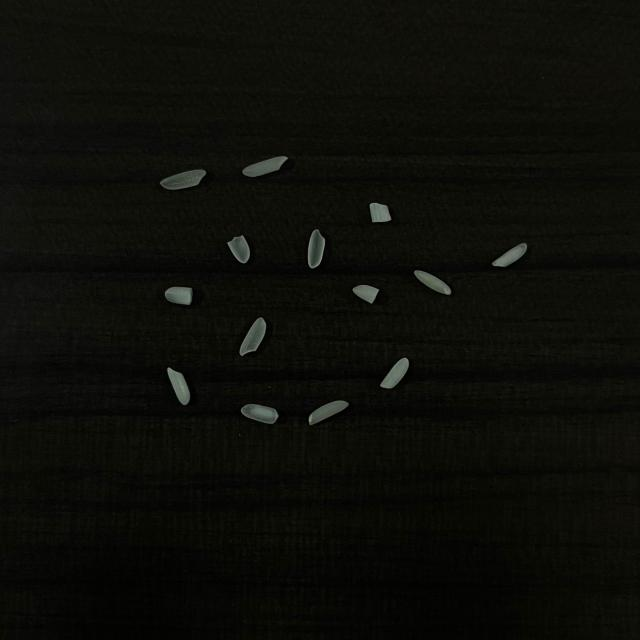Broken: (241, 404, 279, 424), (227, 235, 250, 264), (352, 285, 380, 304), (165, 287, 193, 305), (369, 202, 392, 223)
Full: (239, 317, 267, 356), (308, 400, 348, 426), (243, 156, 288, 178), (160, 169, 207, 190), (414, 270, 452, 295), (380, 358, 409, 390), (167, 367, 191, 405), (492, 243, 527, 267), (308, 230, 325, 268)
